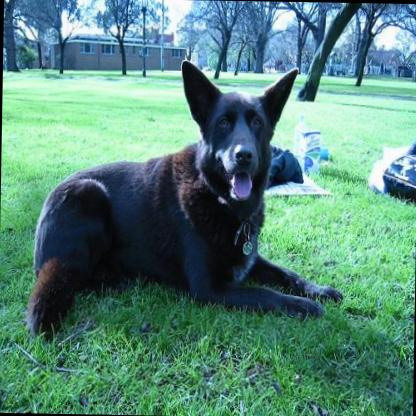kelpie: (25, 55, 348, 338)
